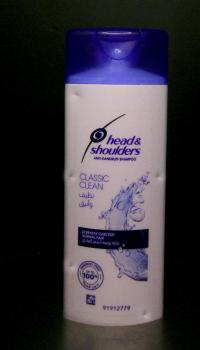dent_unacceptable: (66, 83, 91, 106), (148, 166, 171, 187), (64, 165, 84, 187), (66, 251, 82, 277), (138, 300, 153, 324)
